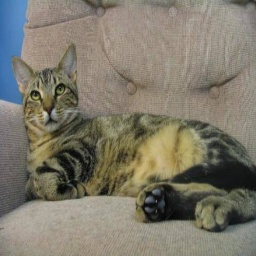cat: (9, 53, 256, 231)
